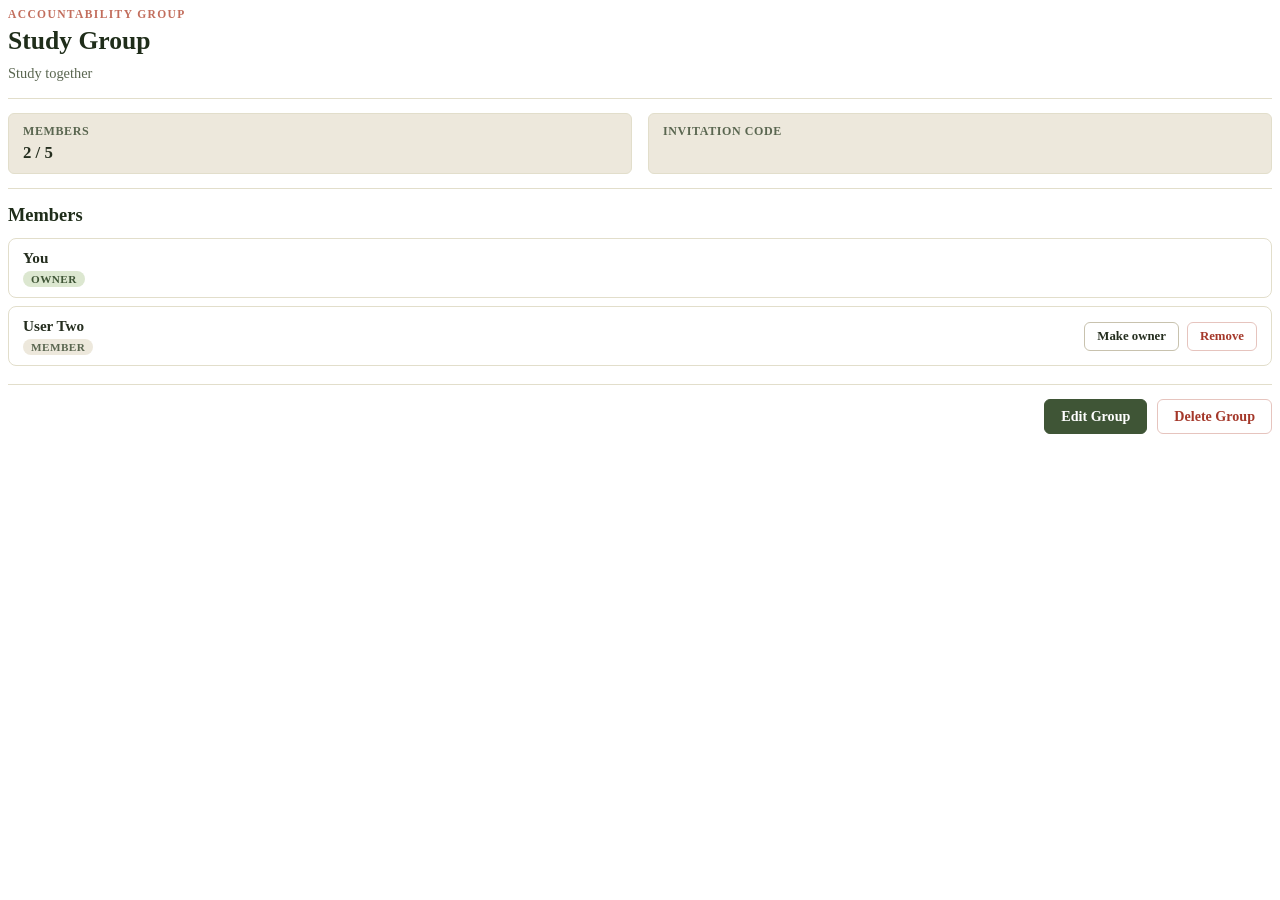
Test: GroupManagement › allows the owner to update group settings
Click the button "Edit Group" at (1096, 417), box [1044, 399, 1147, 434]
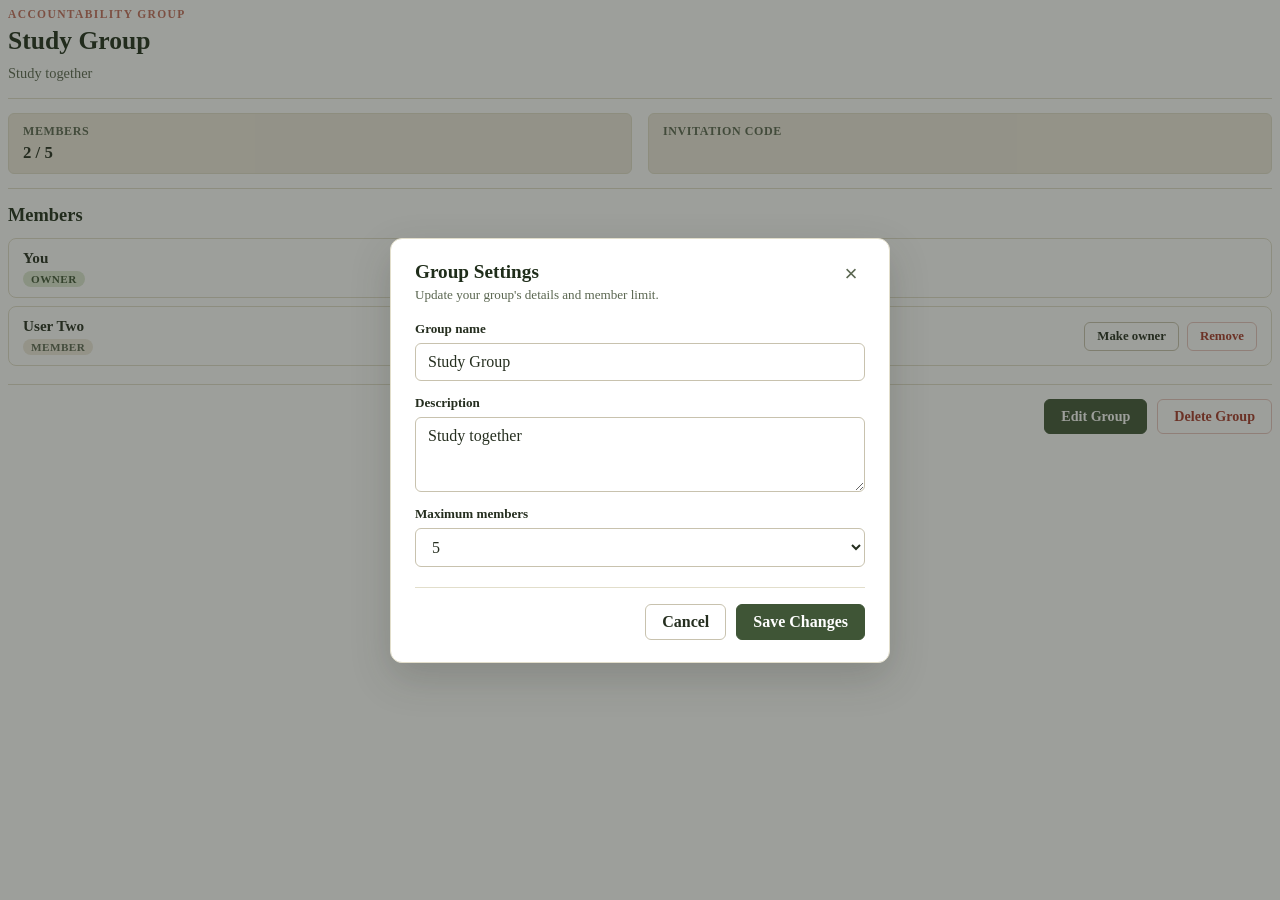
Replace the text in the field labelled "Group name" with "Updated Group" at (640, 362), box [415, 342, 865, 380]
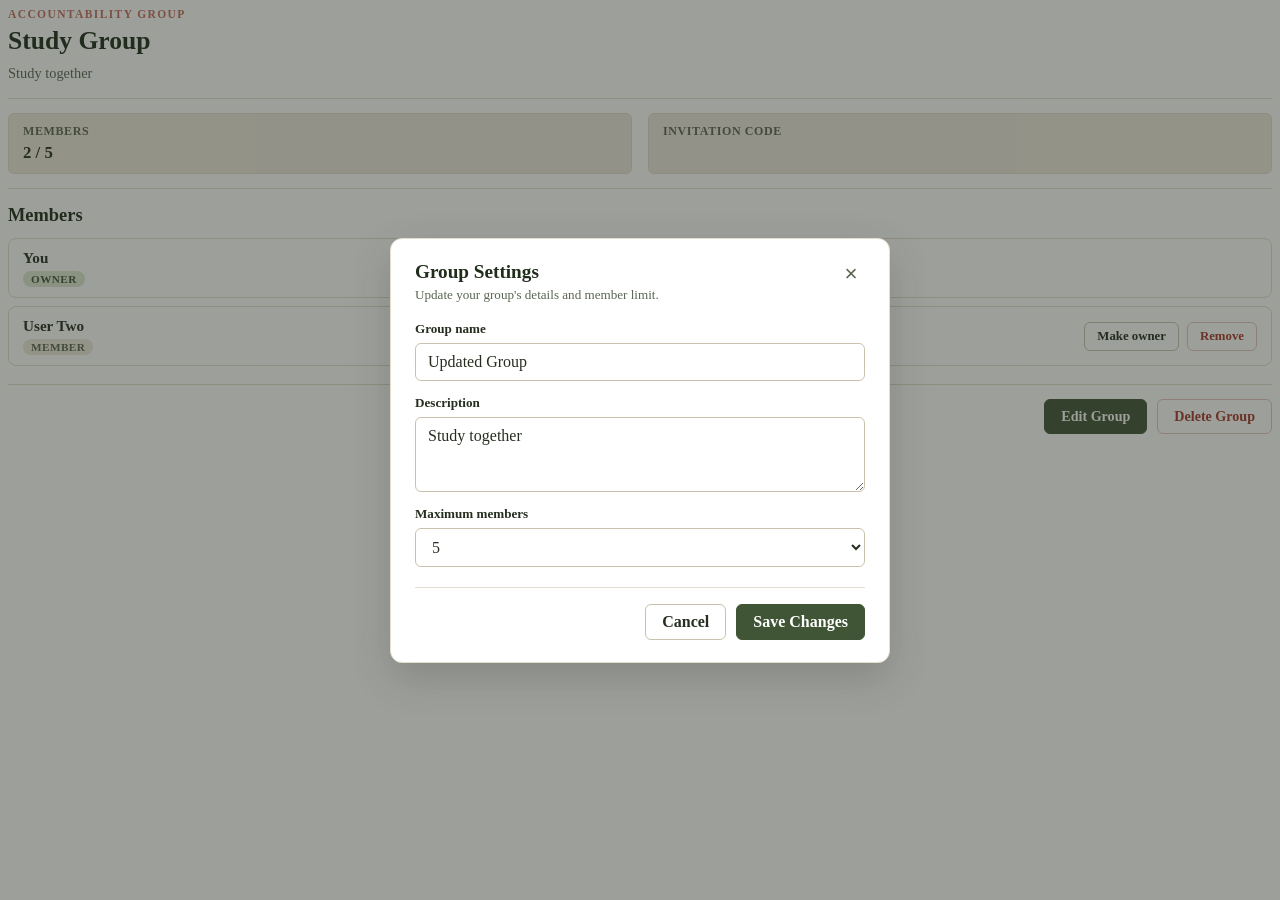
Replace the text in the text box labelled "Description" with "Updated description" at (640, 454), box [415, 416, 865, 492]
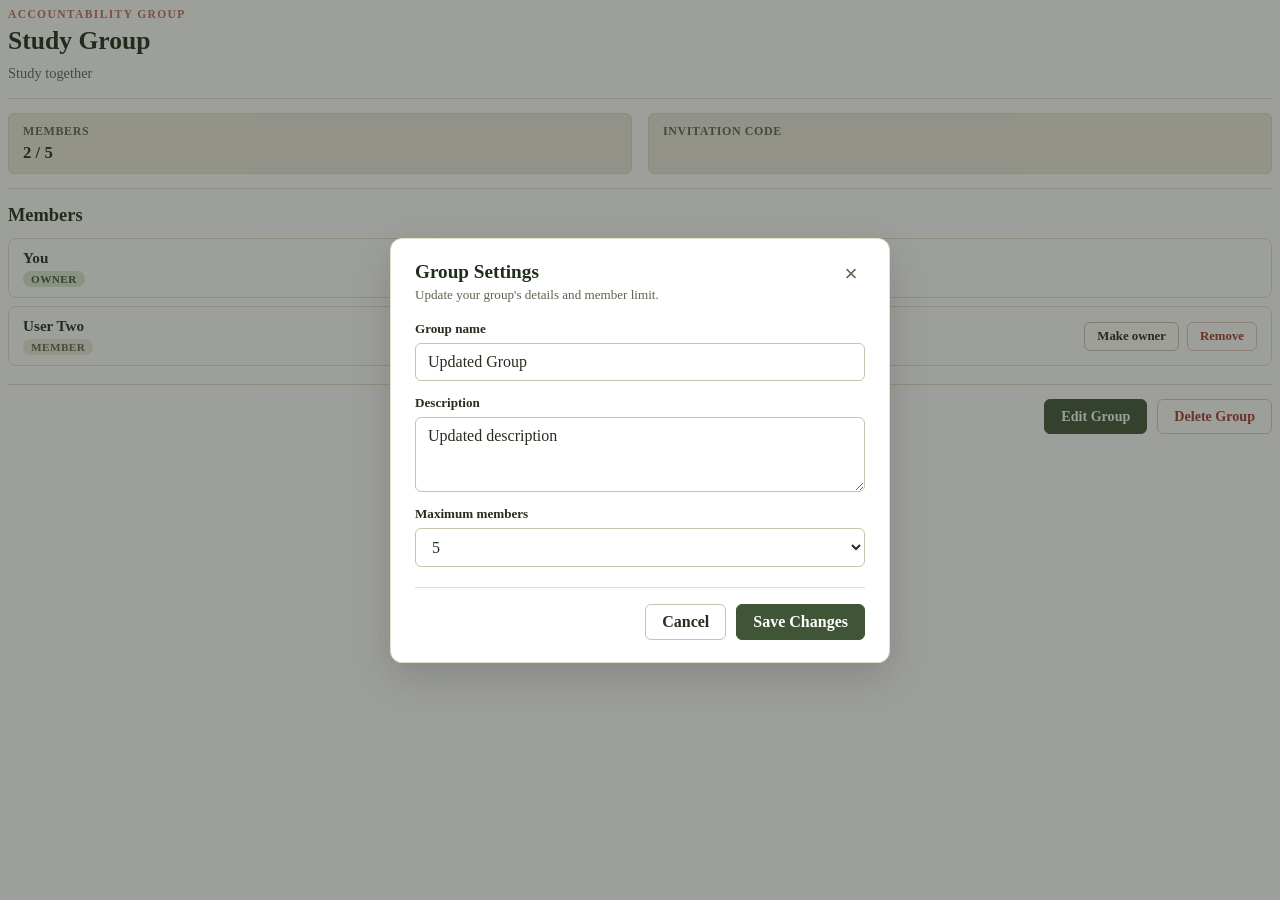
Select "4" in the dropdown labelled "Maximum members" at (640, 547), box [415, 528, 865, 566]
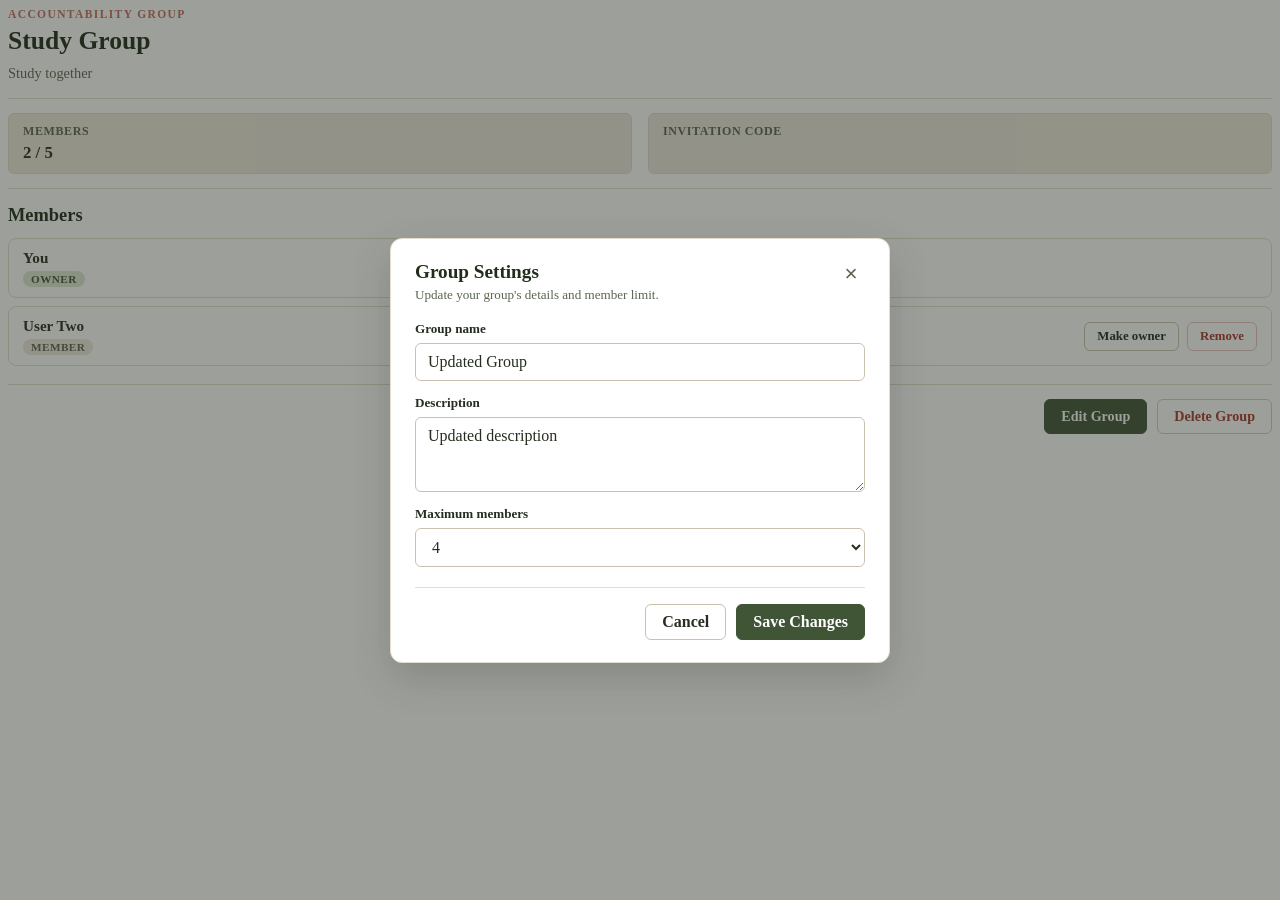
Click the button "Save Changes" at (801, 622), box [736, 604, 865, 640]
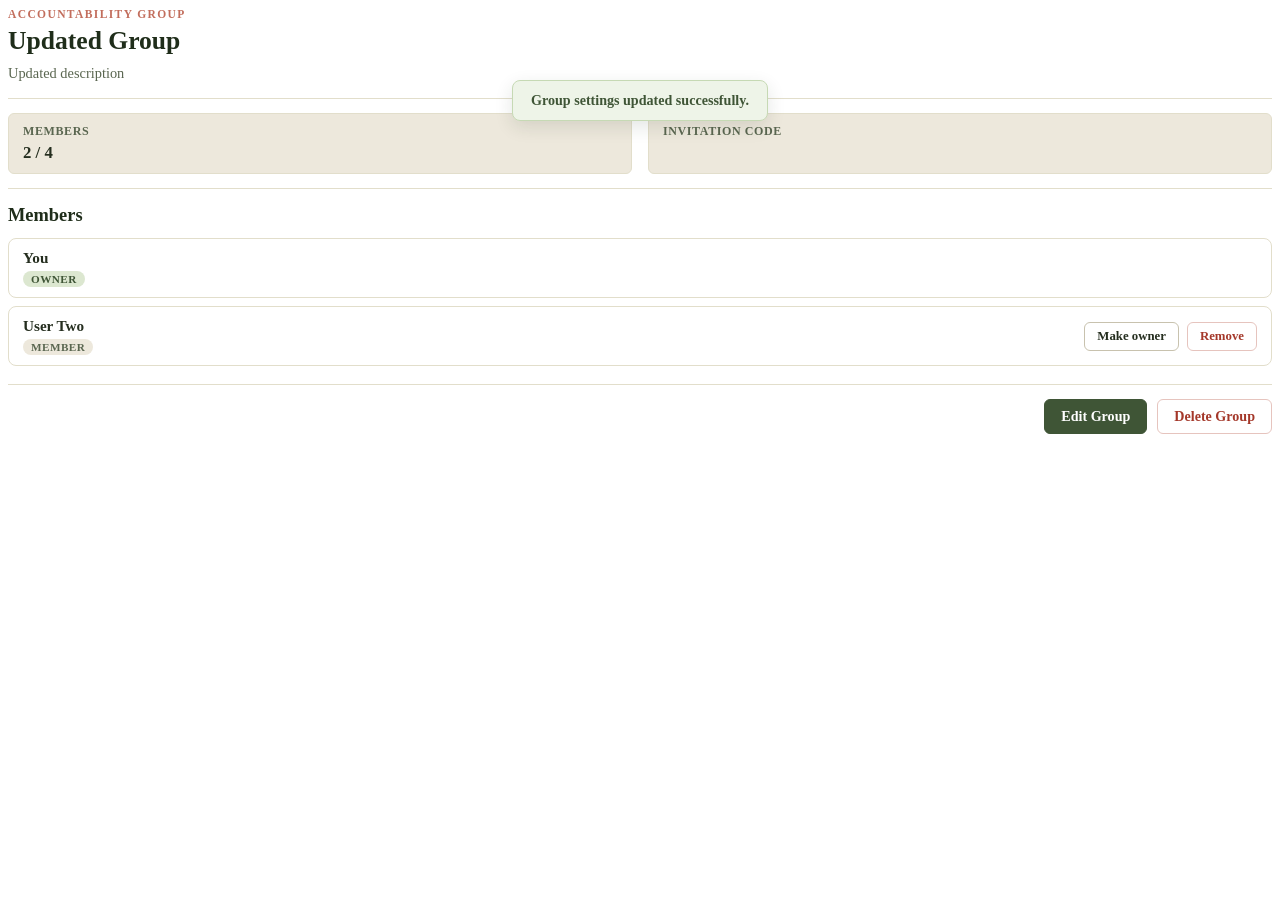
Now the text "Group settings updated successfully." is shown, box [512, 80, 768, 121]
